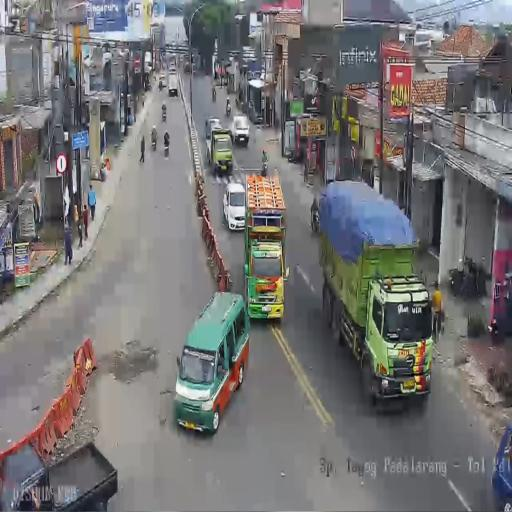car: (172, 292, 248, 431), (222, 182, 246, 230), (233, 114, 250, 146), (204, 116, 222, 142), (168, 69, 178, 98), (168, 60, 176, 74), (183, 60, 191, 74)
motorcycle: (162, 107, 166, 121), (159, 78, 163, 91)
truck: (314, 179, 429, 410), (244, 173, 288, 320)
